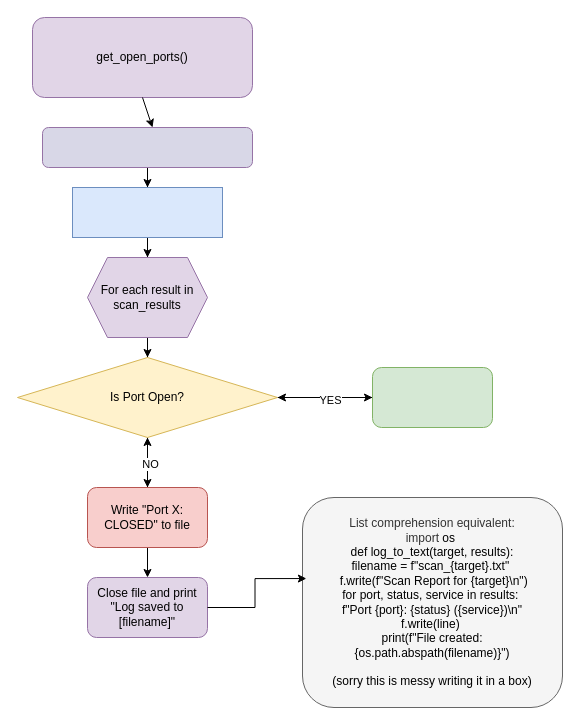
The diagram is 580 pixels wide and 725 high, and some of its shapes have lost their labels. The shapes that lost their labels are listed below. From the top down, each one's centre as x and y in pixels, then its label:
point 147,147: create filename using Target IP and Date
point 147,212: Open file in 'write' mode using os/open()
point 432,397: Write "Port X: OPEN (Service)" to file .
